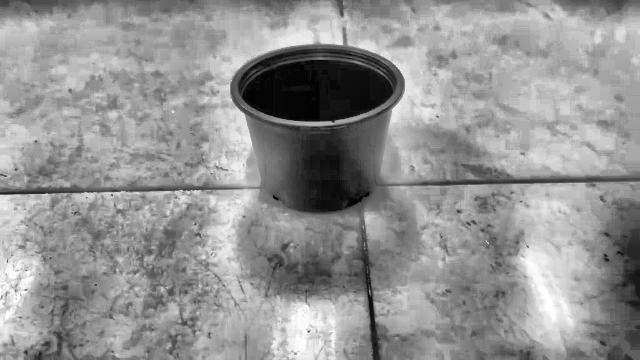pot: (231, 45, 404, 212)
